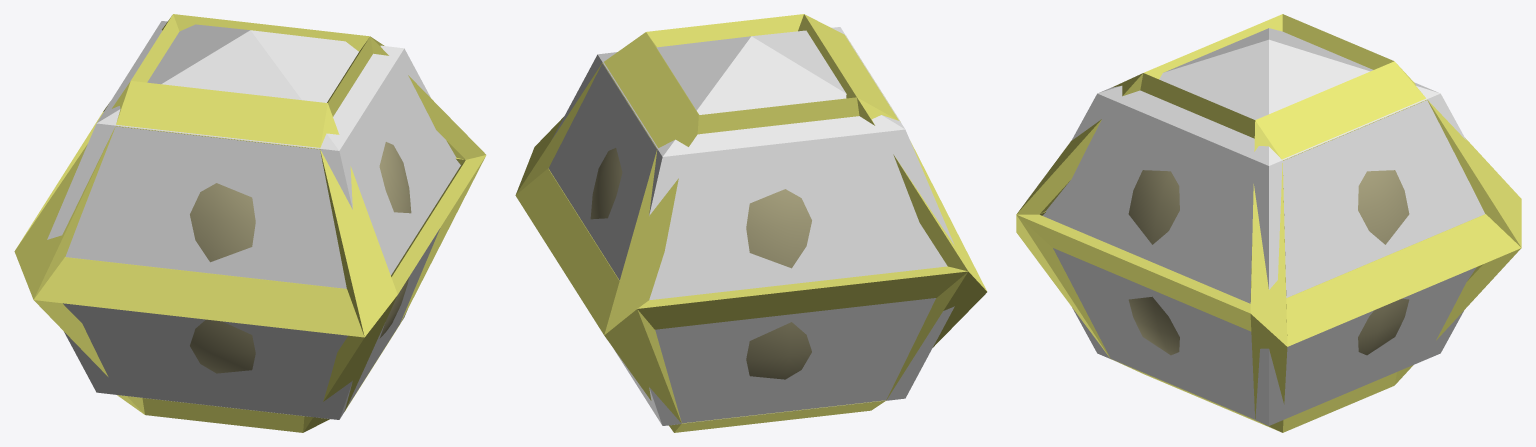
File: Electric.Sma.01.fbx
3 renders of one model, left to right at view 1: azimuth 30°, elevation 25°; view 2: azimuth 150°, elevation 25°; view 3: azimuth 270°, elevation 25°, orthographic. The views are drawn at different scales.
Visible parts, largest first — view 1: A.Electric.Sma.01, B.Electric.Sma.01; view 2: A.Electric.Sma.01, B.Electric.Sma.01; view 3: A.Electric.Sma.01, B.Electric.Sma.01.
Part boxes in pixels (x1,y1,x2,y2): A.Electric.Sma.01: (47,21,460,419); B.Electric.Sma.01: (14,14,486,432); A.Electric.Sma.01: (548,27,954,425); B.Electric.Sma.01: (515,14,987,432); A.Electric.Sma.01: (1042,28,1484,425); B.Electric.Sma.01: (1016,14,1521,432).
Size of the model in its own units: 87.19 by 70 by 87.19.
